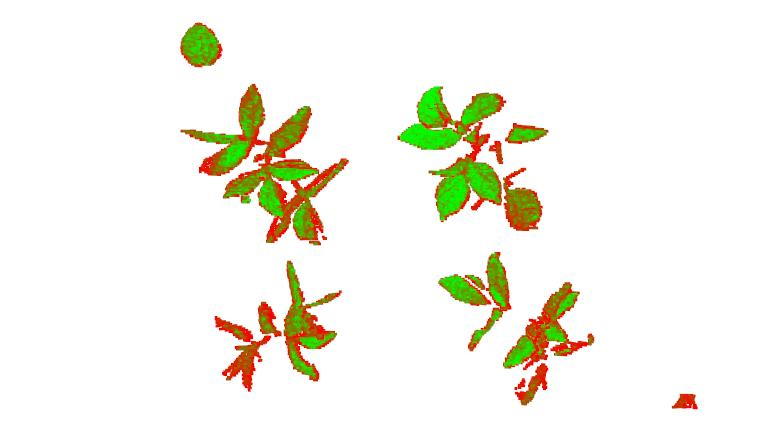mungbean: (170, 82, 347, 248), (435, 251, 603, 403), (405, 81, 556, 234), (194, 259, 346, 394)
